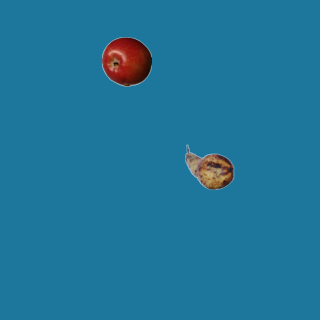Apple Braeburn: (101, 36, 151, 86)
Pear Abate: (184, 142, 234, 192)
